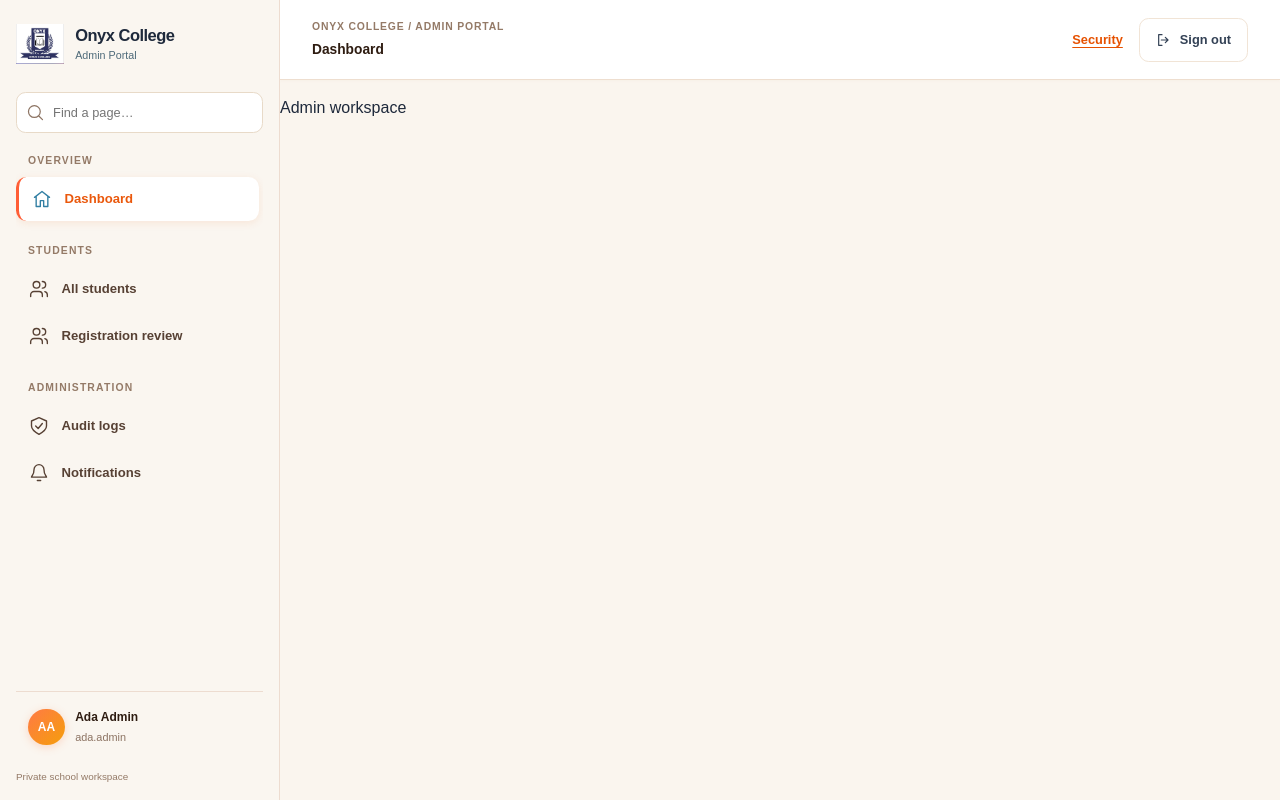
PortalLayout › searches permitted pages, including contextual views, without revealing restricted destinations
The width and height of the screenshot is (1280, 800).
Step 1. Type "archived" into the field labelled "Find a page" → (152, 113), box [53,103,252,122]
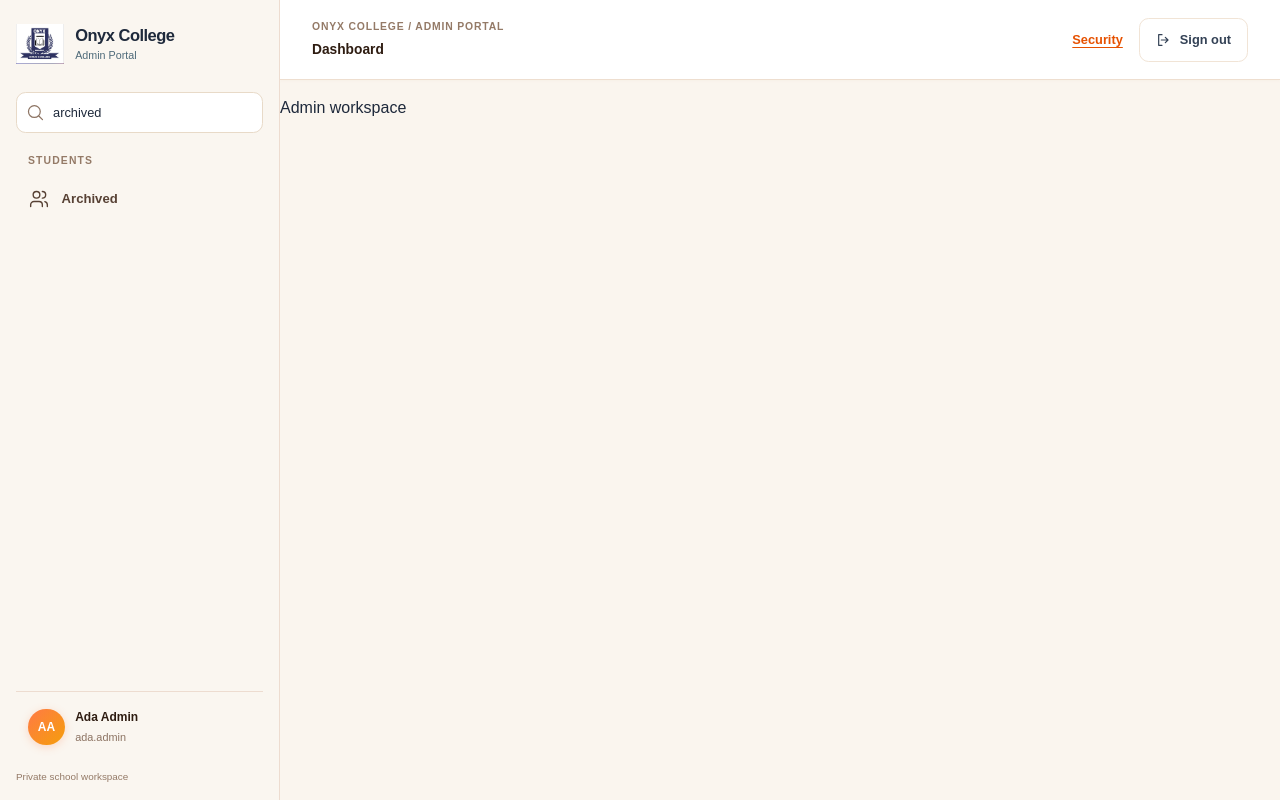
Expected: the link "Audit logs" is gone
Step 2. Replace the text in the field named "Find a page" with "roles" → (152, 113), box [53,103,252,122]
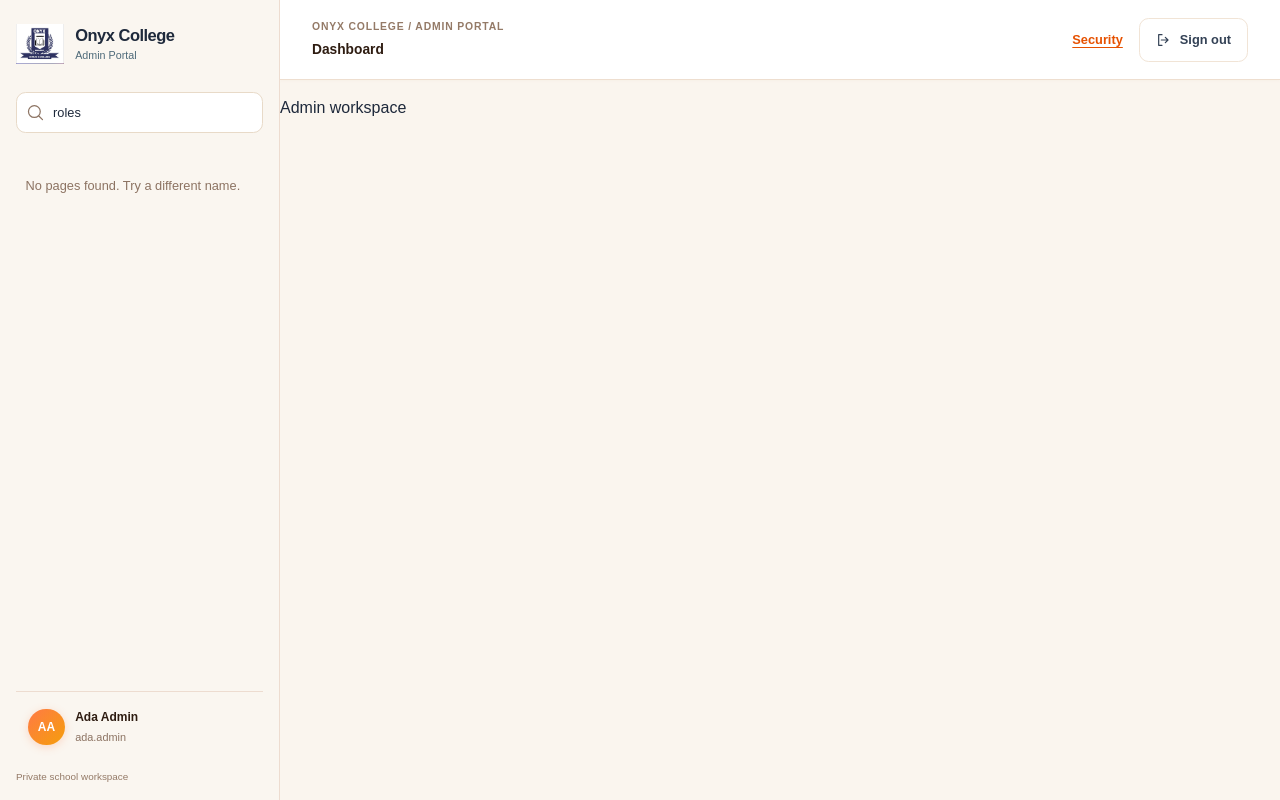
Expected: the link "Archived" is gone
Expected: the message shows "No pages found", [26,178,240,193]
Step 3. Clear the field named "Find a page" → (152, 113), box [53,103,252,122]
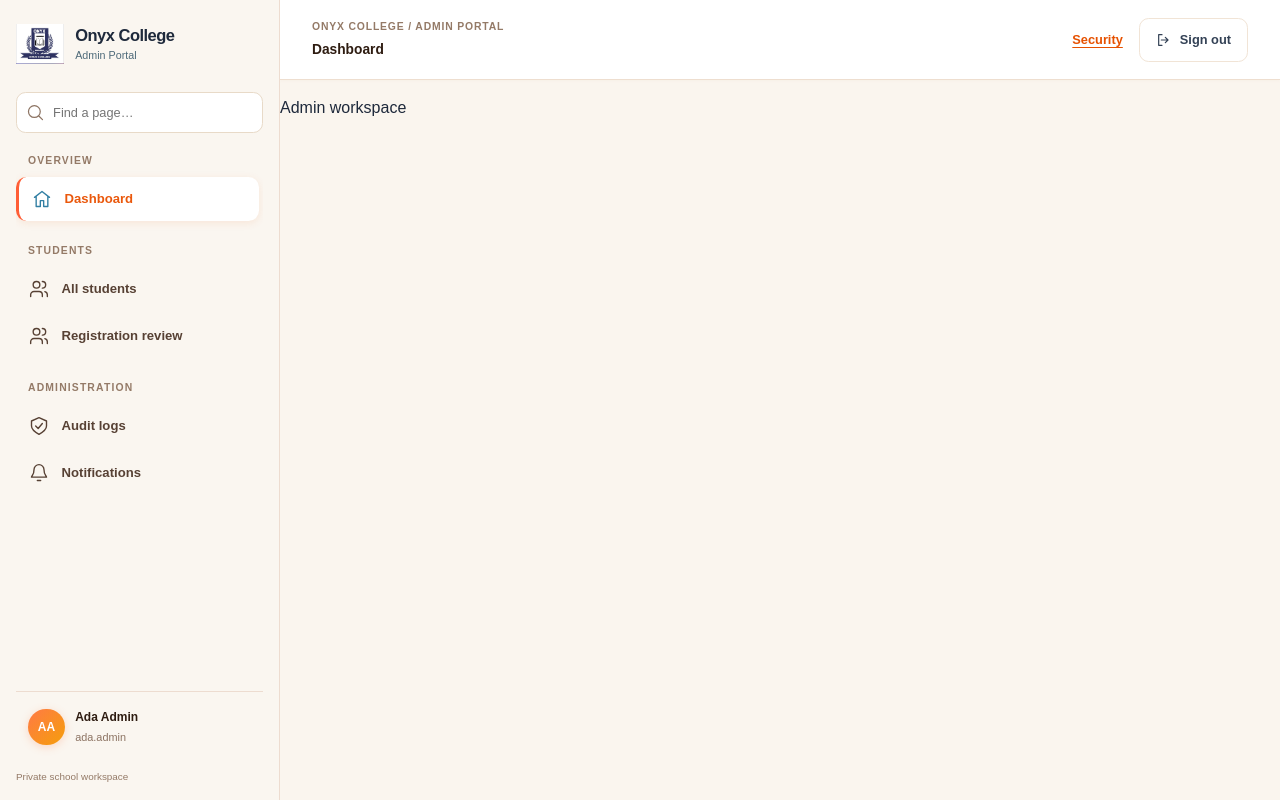
Expected: the link "All students" is shown, [29,279,137,299]
